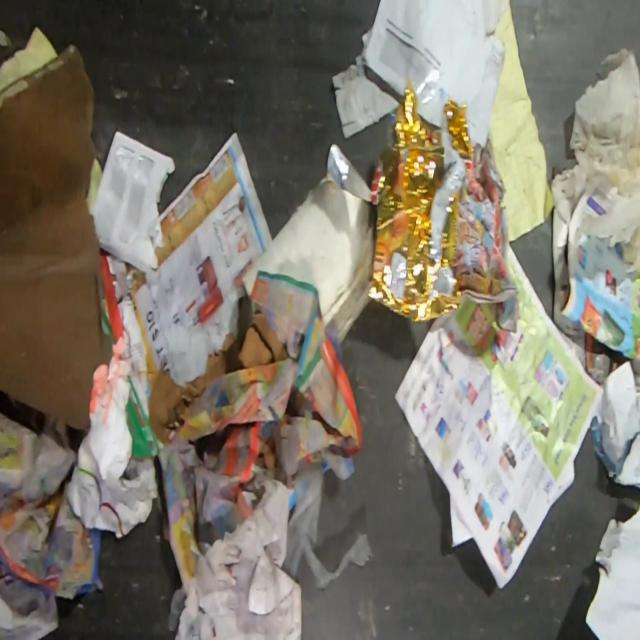cardboard: (148, 309, 290, 449)
soft_plastic: (326, 81, 474, 321), (550, 48, 640, 274), (280, 458, 374, 590)
